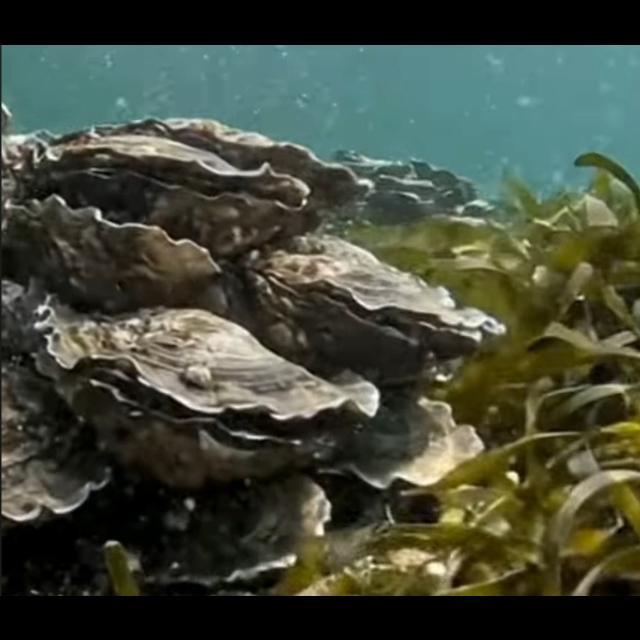Oyster-Closed: (95, 114, 372, 218), (115, 467, 331, 583), (5, 194, 221, 308), (0, 340, 112, 520), (312, 383, 488, 493)
Oyster-Open: (32, 292, 380, 480), (242, 231, 508, 373), (16, 130, 310, 258)
